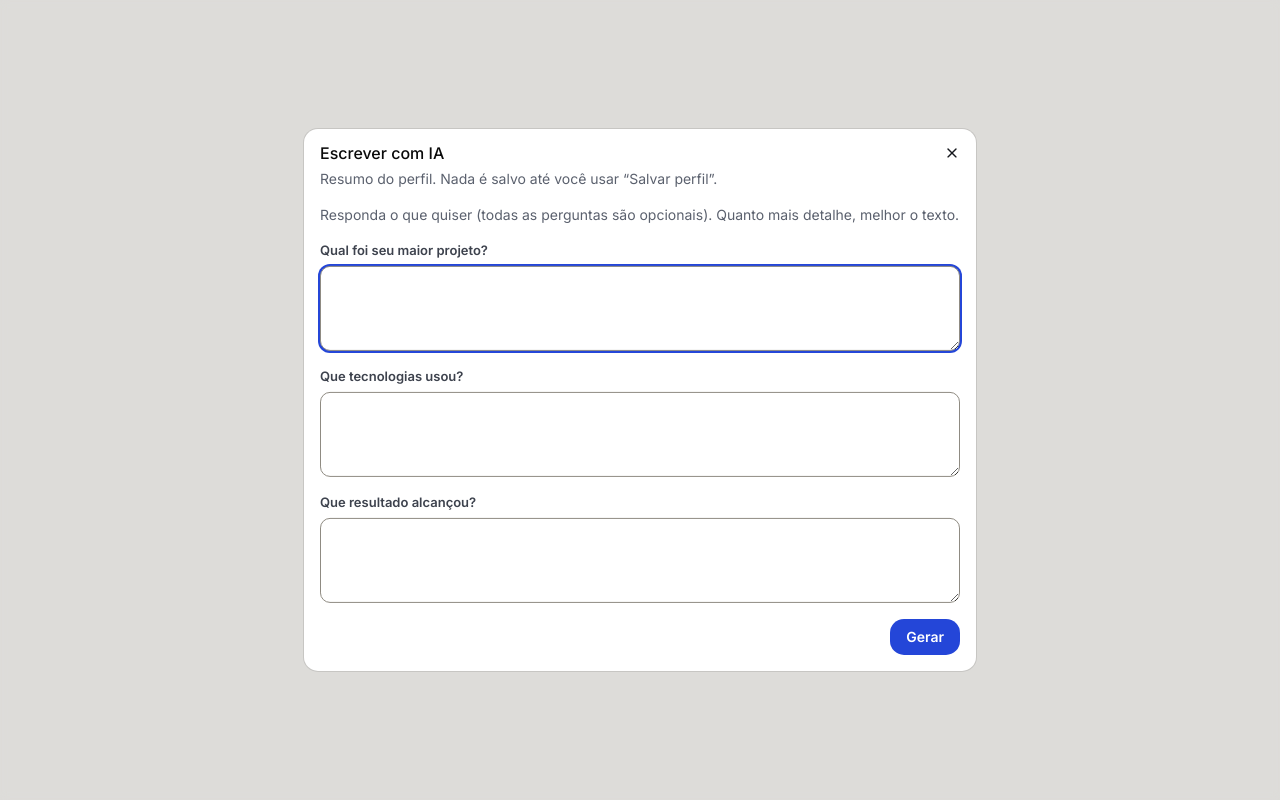
Test: AssistantDialog: entrevista › invalid_output mostra a mensagem da D-04 e Tentar de novo refaz a geração
Click the button "Gerar": (925, 637) x1=890 y1=619 x2=960 y2=655
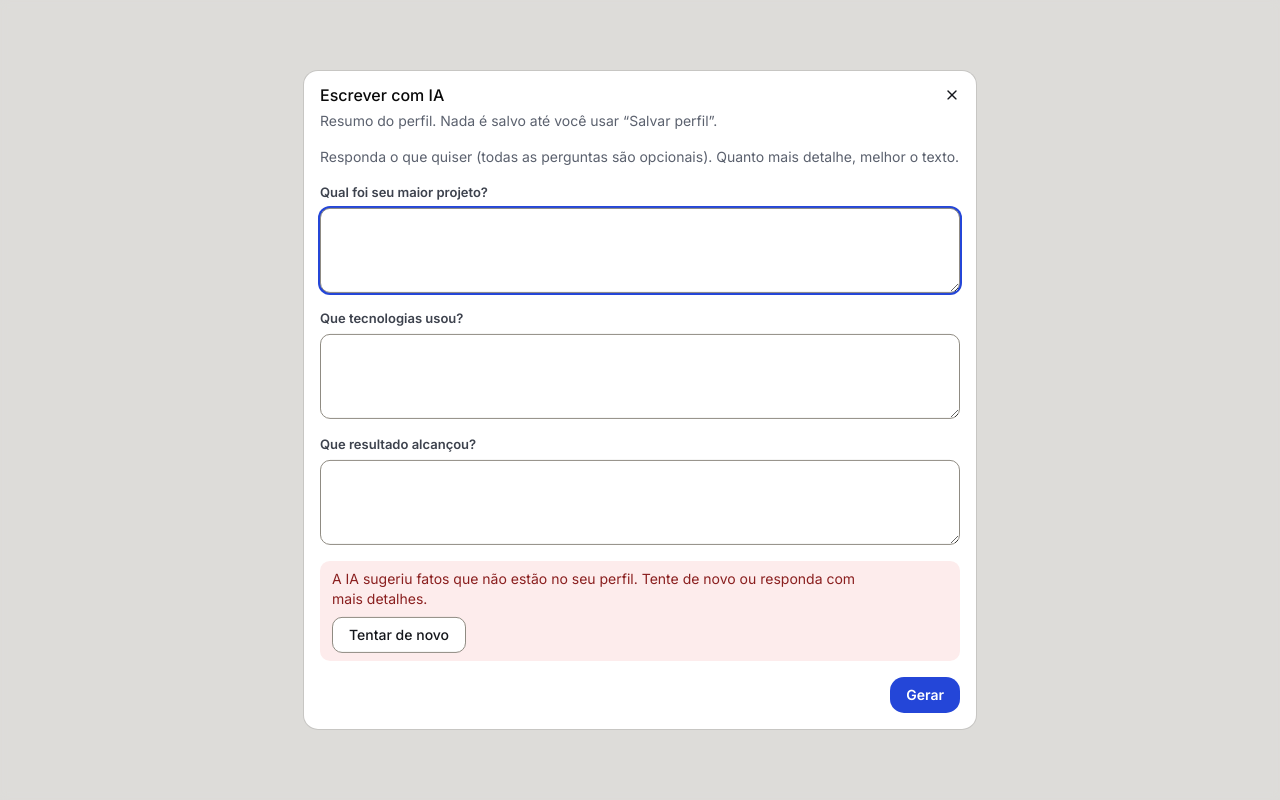
Expected: the message shows "A IA sugeriu fatos que não estão no seu perfil. Tente de novo ou responda com mais detalhes.", x1=332 y1=570 x2=855 y2=607
Click the button "Tentar de novo": (399, 635) x1=332 y1=617 x2=466 y2=653
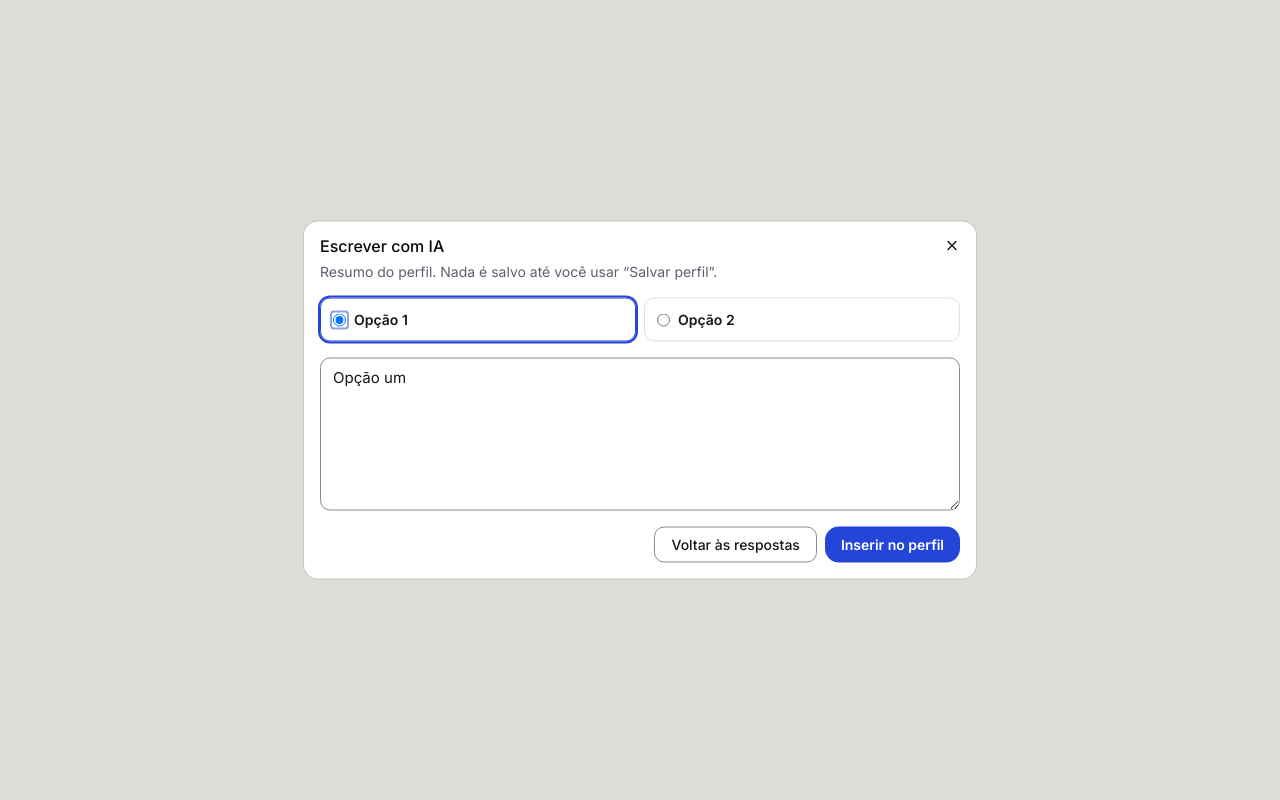
Expected: the element showing "Opção 1 Opção 2" is shown, x1=320 y1=298 x2=960 y2=342
